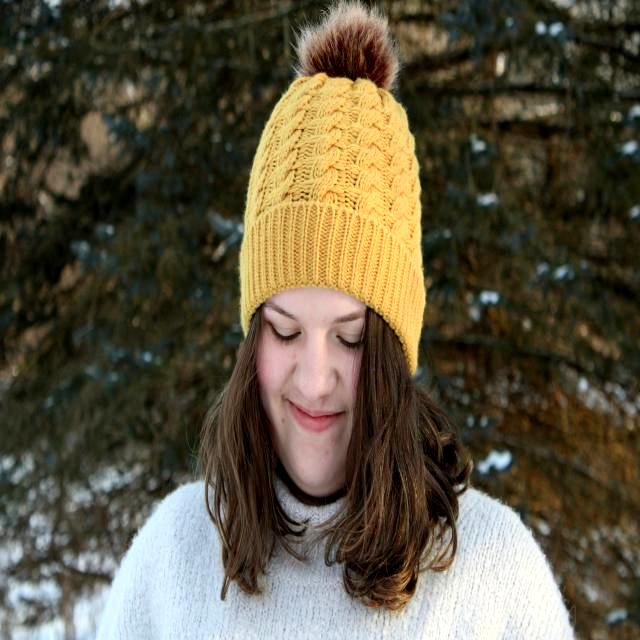no_hard_hat: (240, 3, 425, 375)
person: (97, 3, 574, 640)
